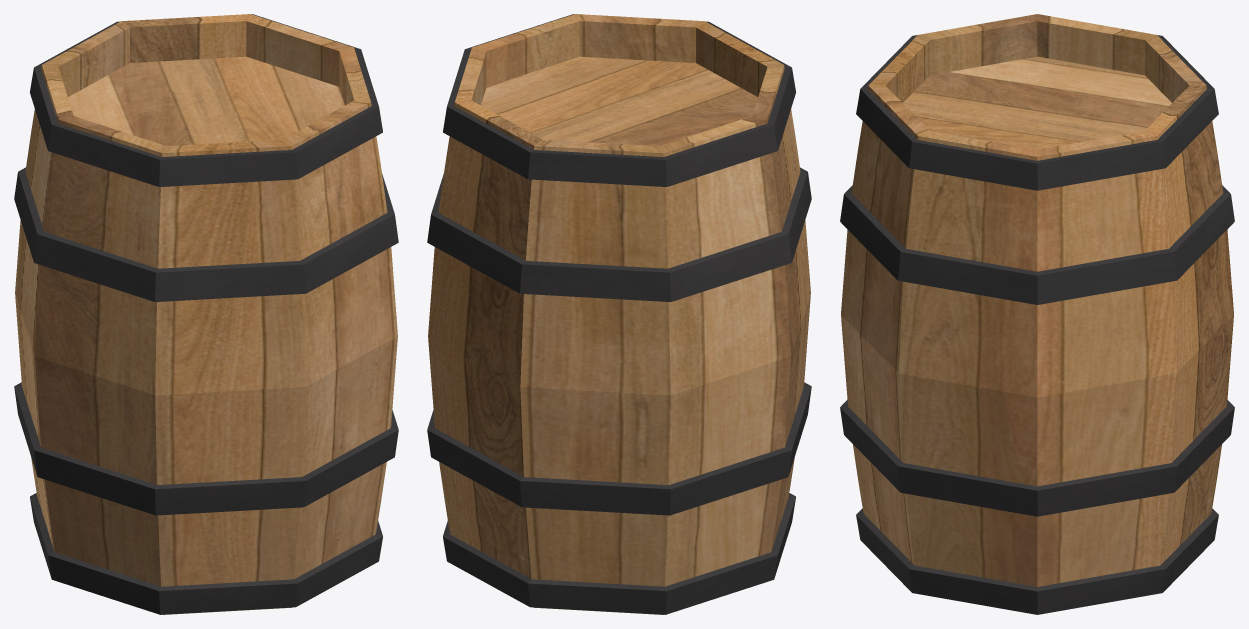
Rendered from Barrel.obj.
3 views of the same model, side by side, from view 1: azimuth 30°, elevation 25°; view 2: azimuth 150°, elevation 25°; view 3: azimuth 270°, elevation 25° (orthographic).
Visible parts, largest first — view 1: Circle.007_Circle.008; view 2: Circle.007_Circle.008; view 3: Circle.007_Circle.008.
Boxes of the visible parts, box(x1,y1,x2,y2) form: Circle.007_Circle.008: box(14, 14, 398, 614); Circle.007_Circle.008: box(427, 14, 811, 614); Circle.007_Circle.008: box(840, 14, 1234, 614).
Size of the model in its own units: 2.99 by 3.83 by 2.99.
